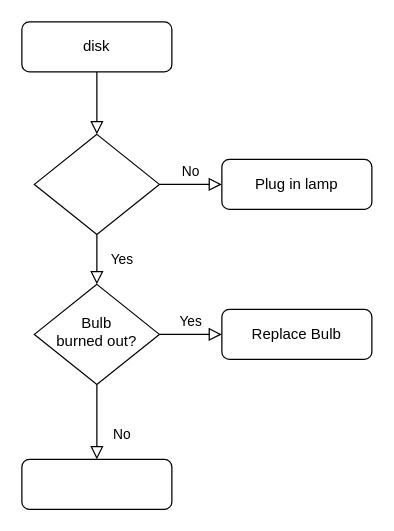
Some shapes in this 394 by 531 pixel diagram are drawn without their labels. Each missing label, with the centre of its shape:
Lamp plugged in?: pixel 96 183
Repair Lamp: pixel 96 483
